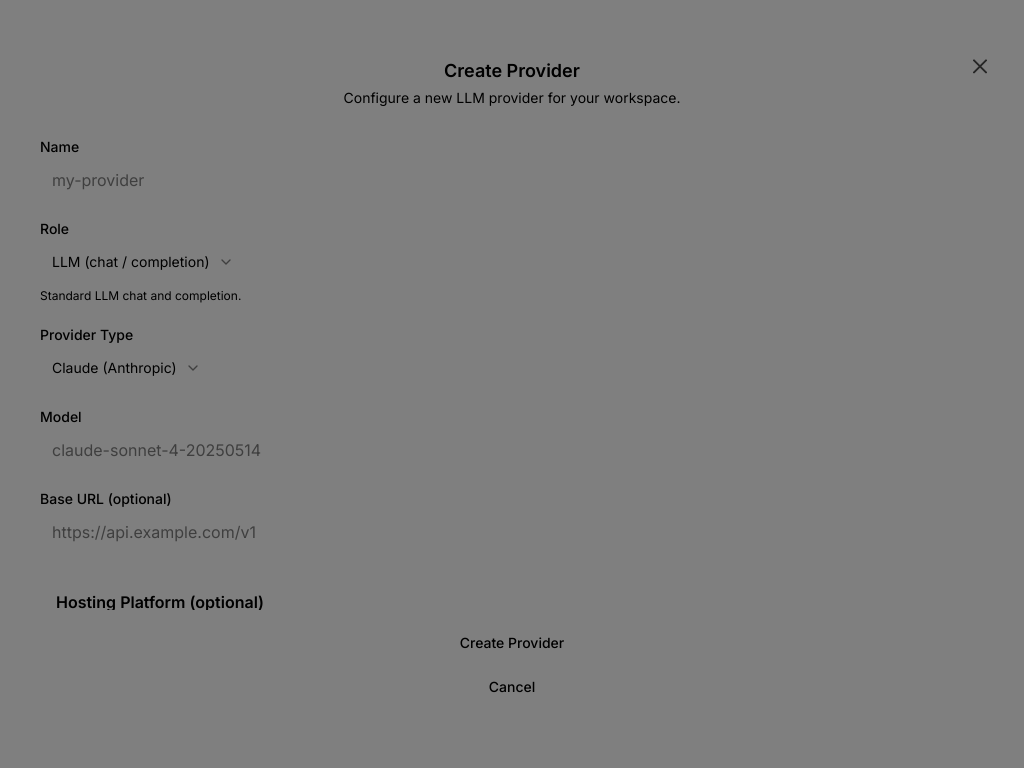
ProviderDialog › validation › validates required name field
Click the button "Create Provider": (512, 644) [40,626,984,662]
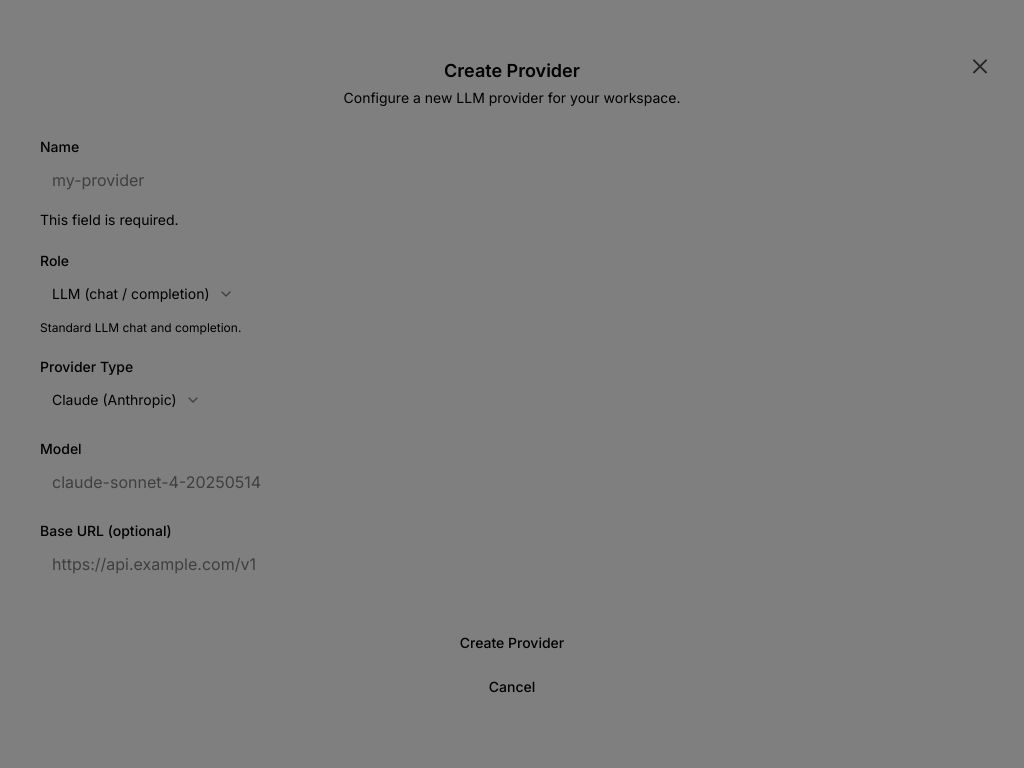
Result: the message "This field is required." is shown at [40,211,179,228]
